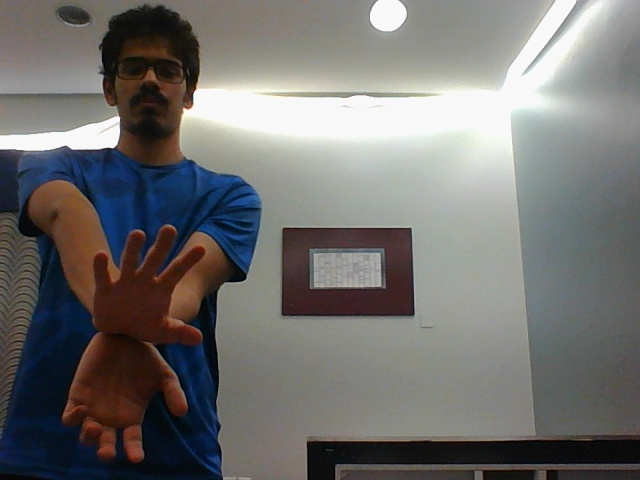blast: (56, 223, 211, 463)
